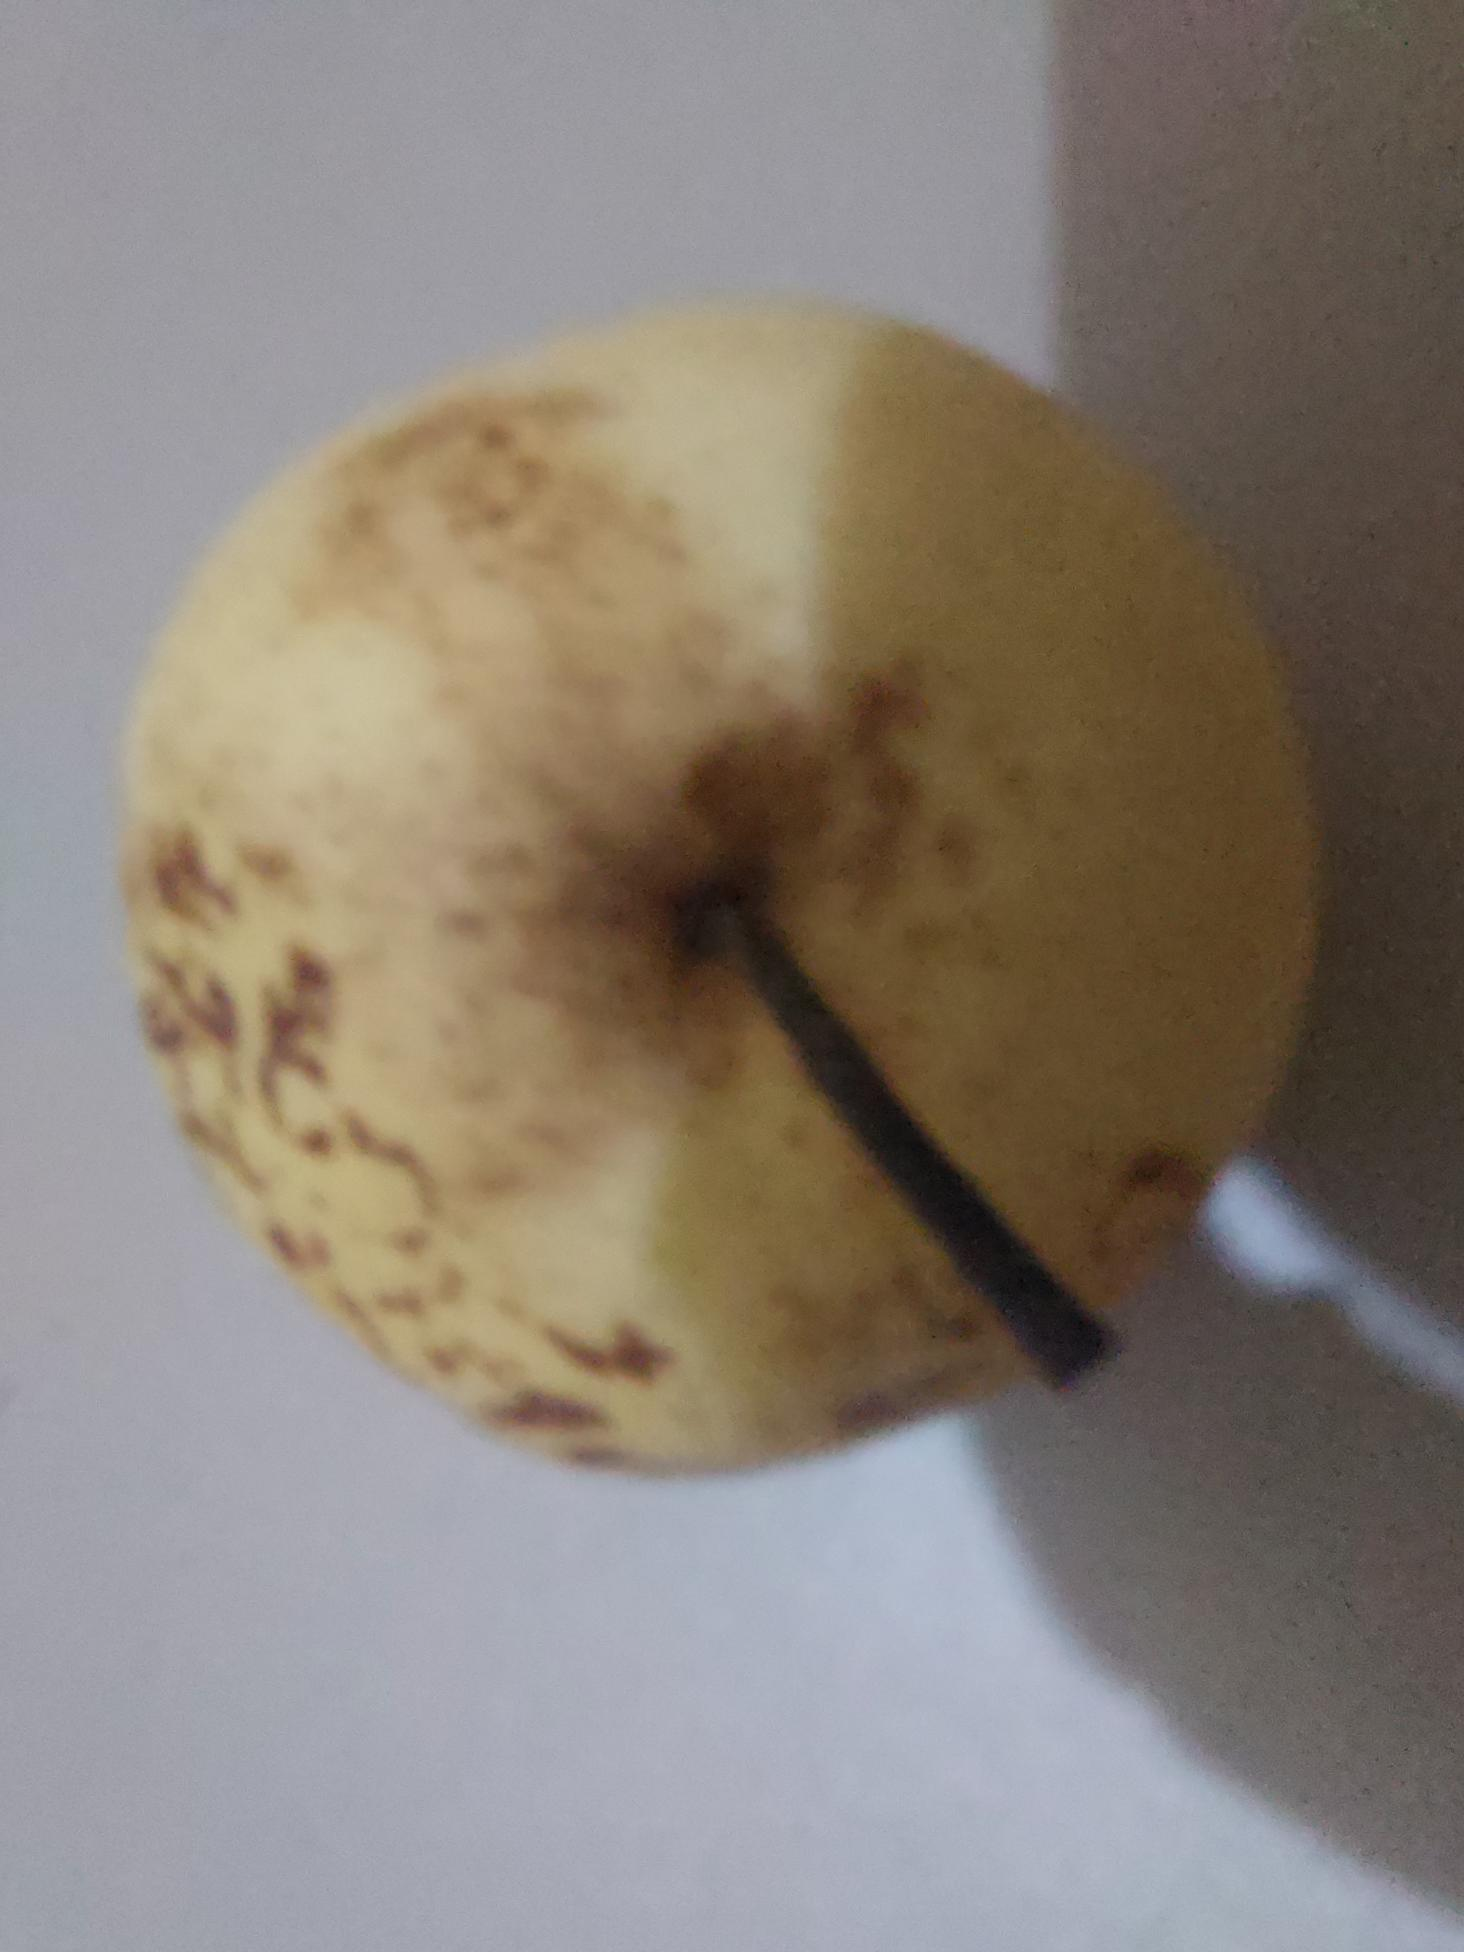Bad Pear: (125, 340, 1313, 1480)
